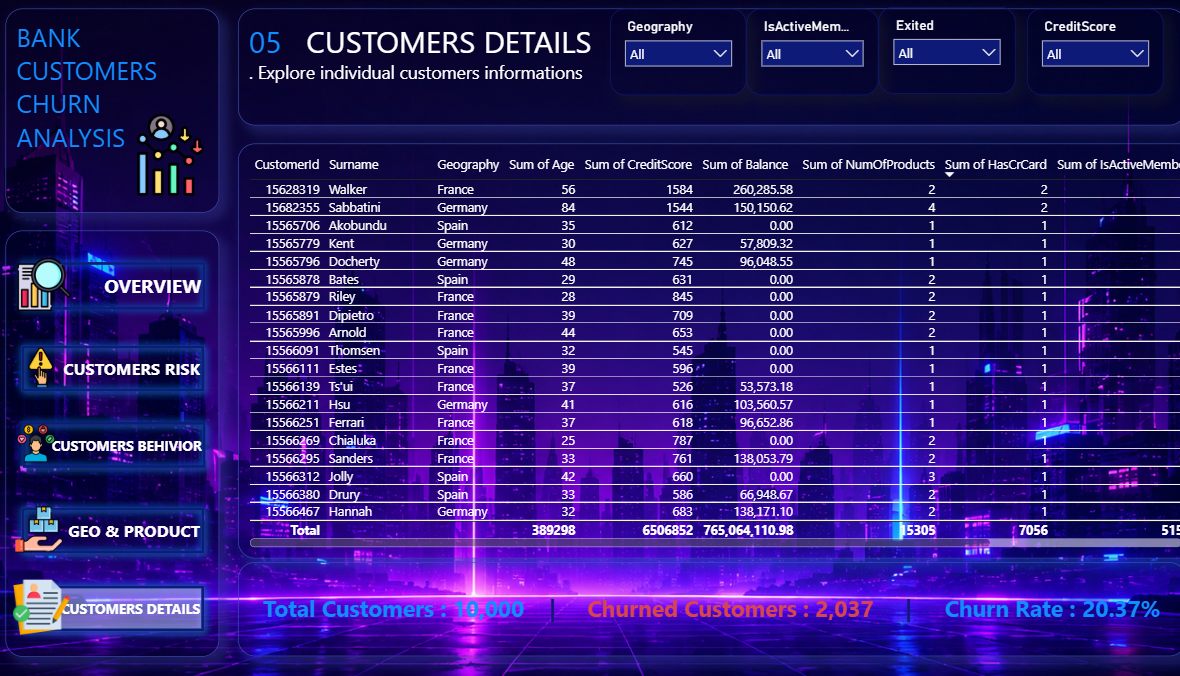

What the dashboard file says about the page in this screenshot:
{"tool":"powerbi","page":{"name":"CUSTOMERS DETAILS","canvas":[1280,720],"ordinal":4},"visuals":[{"type":"textbox","box":[257.7,11.1,1005.3,124.1],"z":0},{"type":"textbox","box":[11.7,246.7,226.7,451.7],"z":1000},{"type":"textbox","box":[11.7,11.7,226.7,216.7],"z":2000},{"type":"actionButton","box":[18.3,271.7,211.7,66.7],"z":3000},{"type":"actionButton","box":[18.3,360,211.7,66.7],"z":4000},{"type":"actionButton","box":[20,440,211.7,66.7],"z":5000},{"type":"actionButton","box":[18.3,531.7,211.7,66.7],"z":6000},{"type":"actionButton","box":[18.3,613.3,211.7,66.7],"z":7000},{"type":"image","box":[141.6,103.4,89.1,125.7],"z":8000},{"type":"image","box":[20,531.7,51.7,63.3],"z":9000},{"type":"image","box":[28.3,360,43.3,63.3],"z":10000},{"type":"image","box":[20,440,45,63.3],"z":11000},{"type":"image","box":[23.3,271.7,56.7,63.3],"z":12000},{"type":"image","box":[18.3,613.3,60,63.3],"z":13000},{"type":"slicer","fields":{"Values":["bank_churn bank_customer_churn.Geography"]},"box":[652.2,11.1,144.7,92.3],"z":14000},{"type":"slicer","fields":{"Values":["bank_churn bank_customer_churn.IsActiveMember"]},"box":[796.9,11.1,140,92.3],"z":15000},{"type":"slicer","fields":{"Values":["bank_churn bank_customer_churn.Exited"]},"box":[936.7,10,145,91.7],"z":16000},{"type":"tableEx","fields":{"Values":["bank_churn bank_customer_churn.CustomerId","bank_churn bank_customer_churn.Surname","bank_churn bank_customer_churn.Geography","Sum(bank_churn bank_customer_churn.Age)","Sum(bank_churn bank_customer_churn.CreditScore)","Sum(bank_churn bank_customer_churn.Balance)","Sum(bank_churn bank_customer_churn.NumOfProducts)","Sum(bank_churn bank_customer_churn.HasCrCard)","Sum(bank_churn bank_customer_churn.IsActiveMember)","Sum(bank_churn bank_customer_churn.EstimatedSalary)","Sum(bank_churn bank_customer_churn.Exited)"]},"box":[258.3,155,1021.7,440],"z":17000},{"type":"slicer","fields":{"Values":["bank_churn bank_customer_churn.CreditScore"]},"box":[1094.3,11.1,144.7,92.3],"z":18000},{"type":"textbox","box":[258.3,598.3,1005,100],"z":19000}]}

Visuals, with their boxes in screenshot pixels (x1, y1, x2, y2), scaled from the page's 1280x720 canvas onto the 1180x676 screenshot:
textbox: region(238, 10, 1164, 127)
textbox: region(11, 232, 220, 656)
textbox: region(11, 11, 220, 214)
actionButton: region(17, 255, 212, 318)
actionButton: region(17, 338, 212, 401)
actionButton: region(18, 413, 214, 476)
actionButton: region(17, 499, 212, 562)
actionButton: region(17, 576, 212, 638)
image: region(131, 97, 213, 215)
image: region(18, 499, 66, 559)
image: region(26, 338, 66, 397)
image: region(18, 413, 60, 473)
image: region(21, 255, 74, 315)
image: region(17, 576, 72, 635)
slicer - bank_churn bank_customer_churn.Geography: region(601, 10, 735, 97)
slicer - bank_churn bank_customer_churn.IsActiveMember: region(735, 10, 864, 97)
slicer - bank_churn bank_customer_churn.Exited: region(864, 9, 997, 95)
tableEx - bank_churn bank_customer_churn.CustomerId x bank_churn bank_customer_churn.Surname: region(238, 146, 1179, 559)
slicer - bank_churn bank_customer_churn.CreditScore: region(1009, 10, 1142, 97)
textbox: region(238, 562, 1165, 656)
